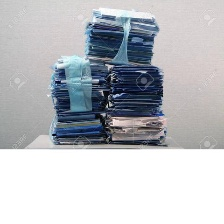book: (105, 60, 177, 145), (44, 55, 110, 145), (79, 4, 166, 67)
